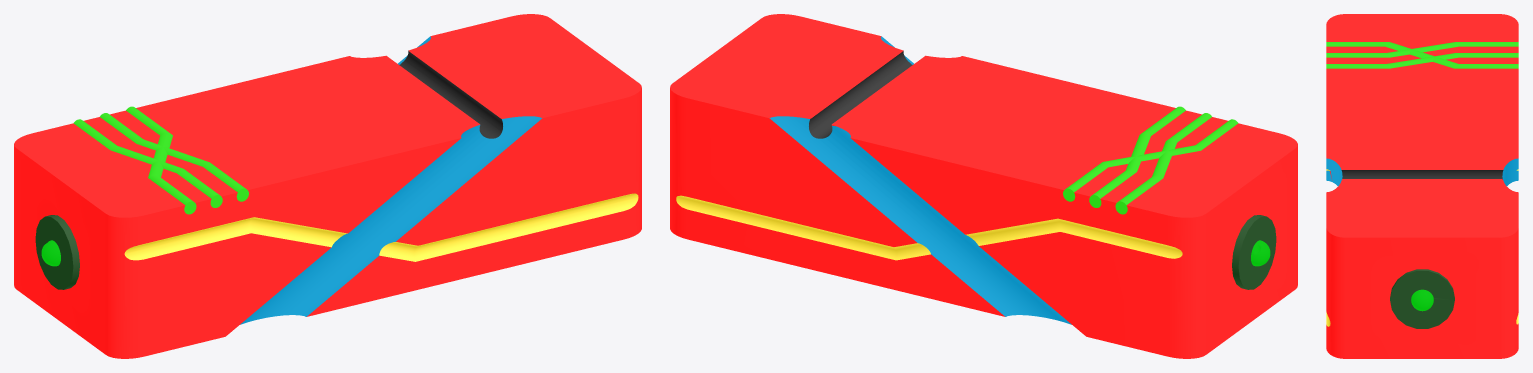
The model's file is obstacle_211_1.FBX.
3 views of the same model, side by side, from view 1: azimuth 30°, elevation 25°; view 2: azimuth 150°, elevation 25°; view 3: azimuth 270°, elevation 25° (orthographic). The views are drawn at different scales.
Parts seen in each view (by area): view 1: Ellipse003; view 2: Ellipse003; view 3: Ellipse003.
Part boxes in pixels (left/top/right/bottom): Ellipse003: left=14, top=14, right=641, bottom=358; Ellipse003: left=670, top=14, right=1297, bottom=358; Ellipse003: left=1326, top=14, right=1518, bottom=358.
Size of the model in its own units: 173 by 41.86 by 59.16.
